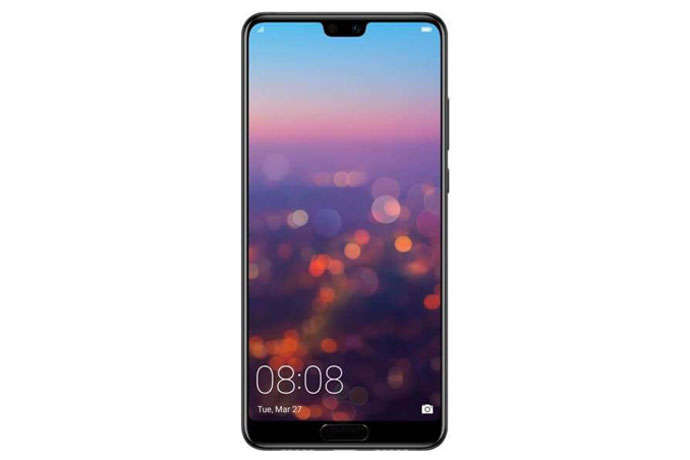Handphone: (236, 10, 459, 458)
